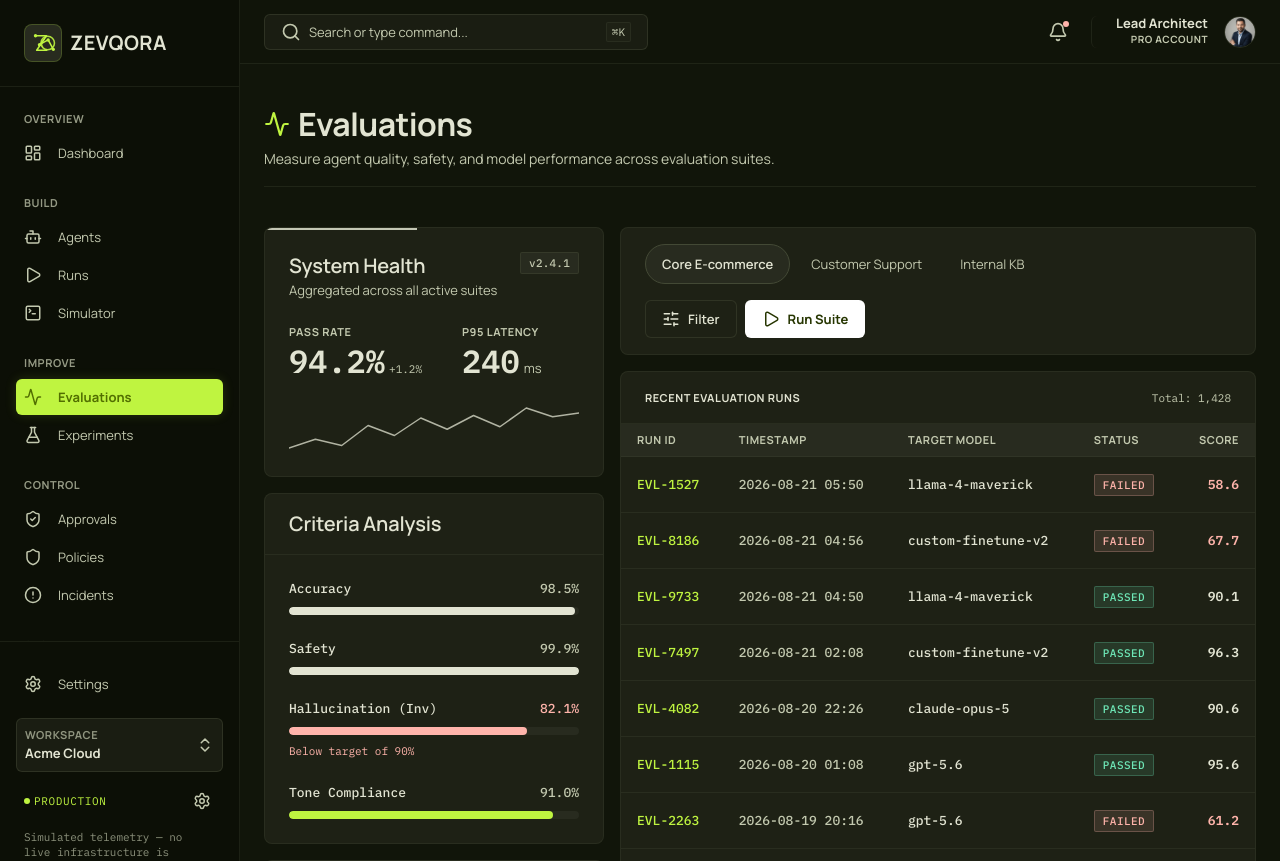
Evaluations › running a suite reports a scored outcome
This screenshot has width=1280, height=861.
Click the button "Run Suite" at (805, 319), box 744,300 -> 865,338
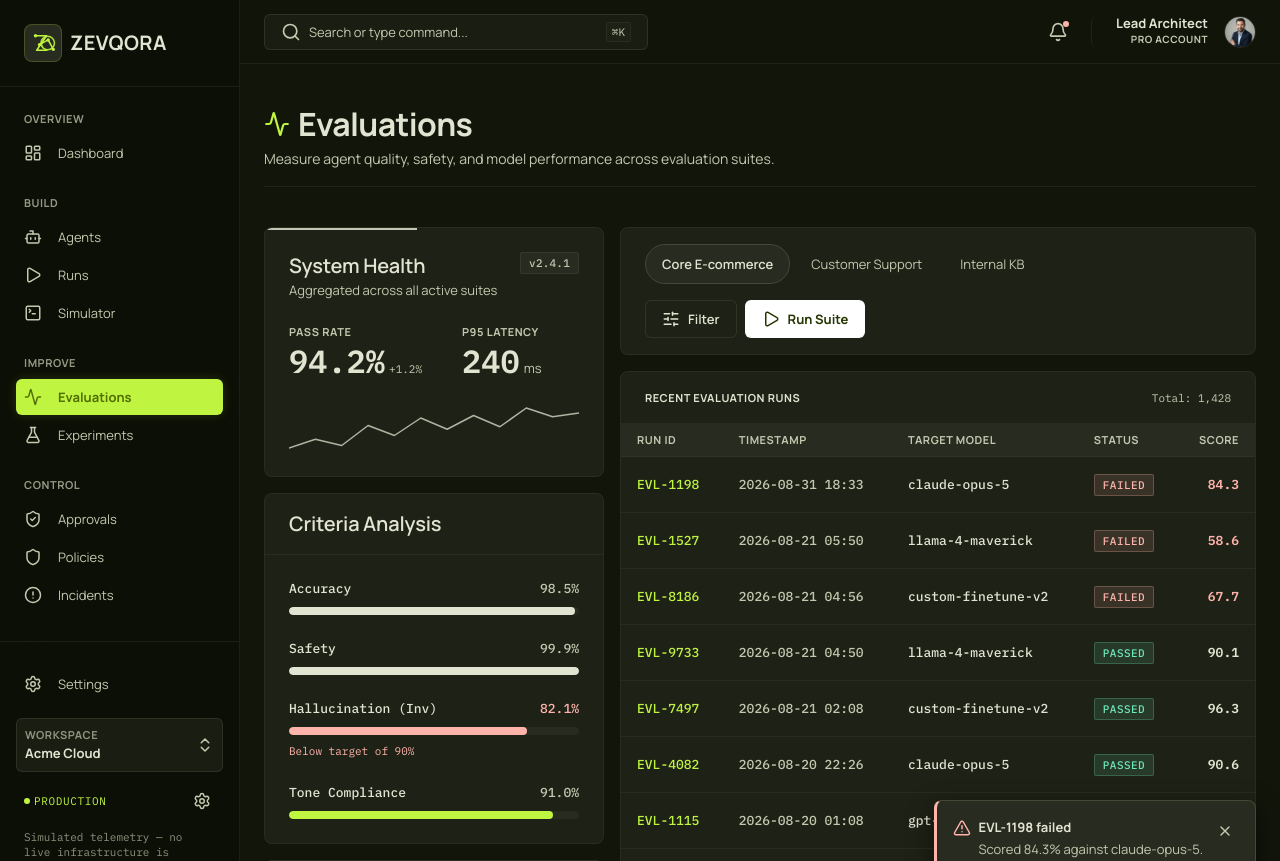
Now the text "EVL-1198 failed" is shown, box 979,818 -> 1071,836
